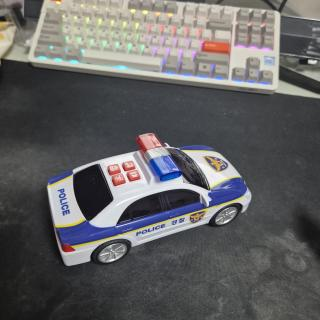Police_car: (47, 133, 252, 265)
